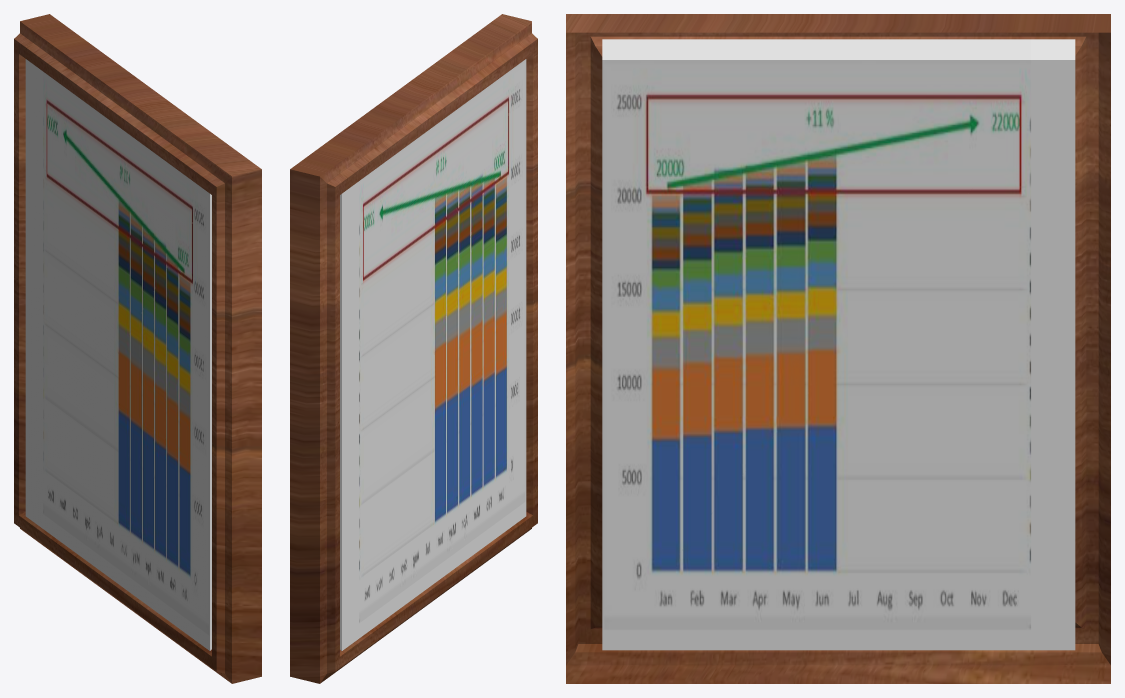
Rendered from graph chart.fbx.
The picture shows the model from 3 angles, left to right: view 1: azimuth 30°, elevation 25°; view 2: azimuth 150°, elevation 25°; view 3: azimuth 270°, elevation 25°; orthographic projection. The views are drawn at different scales.
Parts seen in each view (by area): view 1: WallPainting_01:graph_chart; view 2: WallPainting_01:graph_chart; view 3: WallPainting_01:graph_chart.
Part boxes in pixels (x1=…): WallPainting_01:graph_chart: x1=14, y1=14, x2=261, y2=683; WallPainting_01:graph_chart: x1=290, y1=14, x2=537, y2=683; WallPainting_01:graph_chart: x1=566, y1=14, x2=1110, y2=683.
Bounding box in the file's own units: 10.78 × 129 × 98.04.
2 materials, 2 textured.
